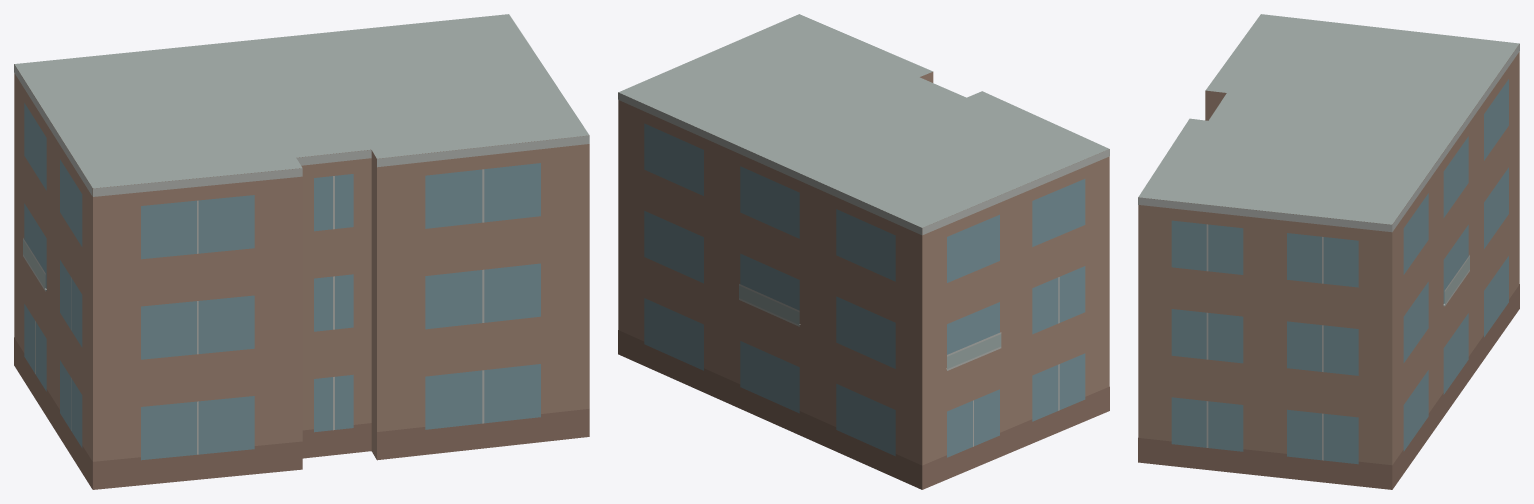
The model's file is survey-upis-32876206.glb.
The picture shows the model from 3 angles, left to right: view 1: azimuth 30°, elevation 25°; view 2: azimuth 150°, elevation 25°; view 3: azimuth 270°, elevation 25°; orthographic projection. The views are drawn at different scales.
Visible parts, largest first — view 1: survey-upis-32876206.tmp; view 2: survey-upis-32876206.tmp; view 3: survey-upis-32876206.tmp.
Part boxes in pixels (left/top/right/bottom): survey-upis-32876206.tmp: left=14, top=14, right=589, bottom=489; survey-upis-32876206.tmp: left=618, top=14, right=1109, bottom=489; survey-upis-32876206.tmp: left=1138, top=14, right=1519, bottom=489.
Bounding box in the file's own units: 14.67 × 8.6 × 11.23.
